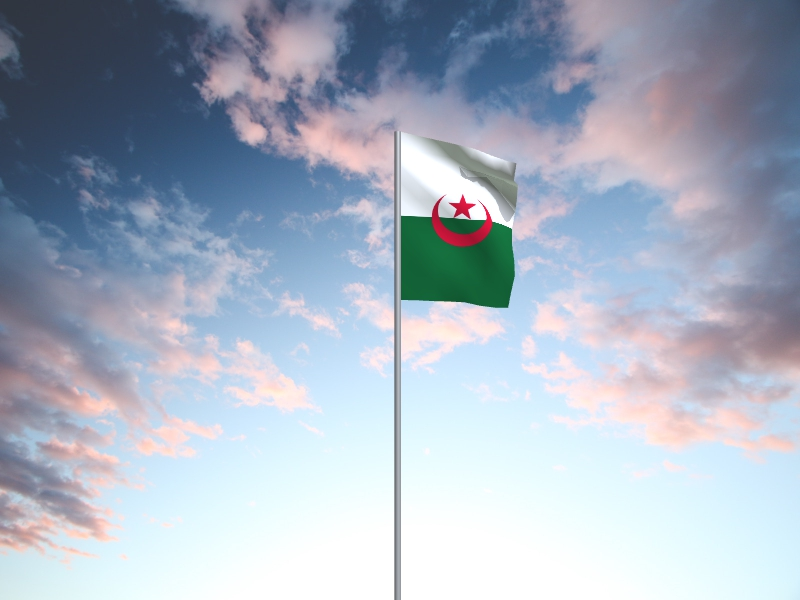dz: (402, 133, 519, 310)
